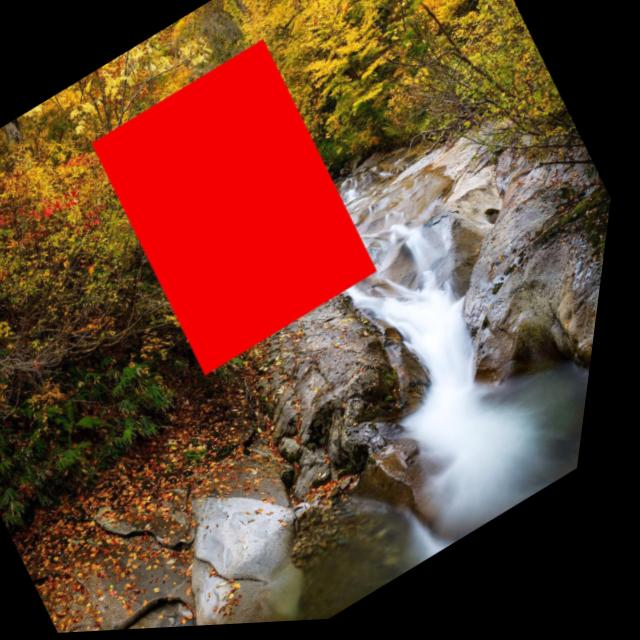RedSquare: (68, 30, 417, 390)
